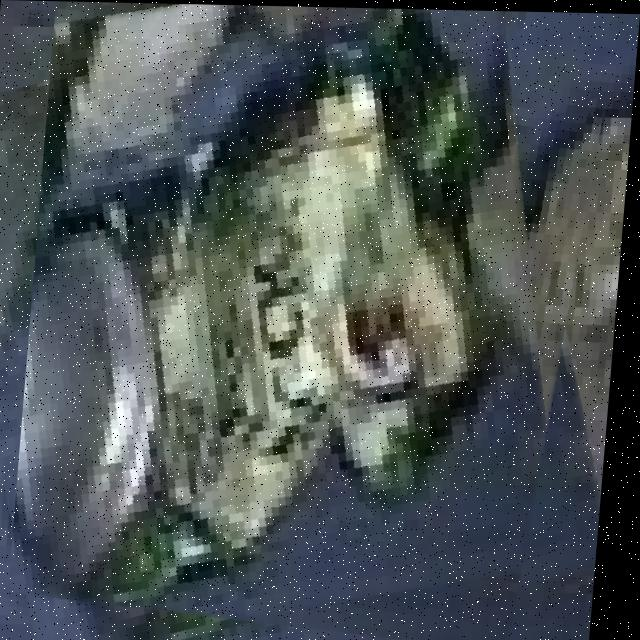litter: (17, 7, 562, 620)
